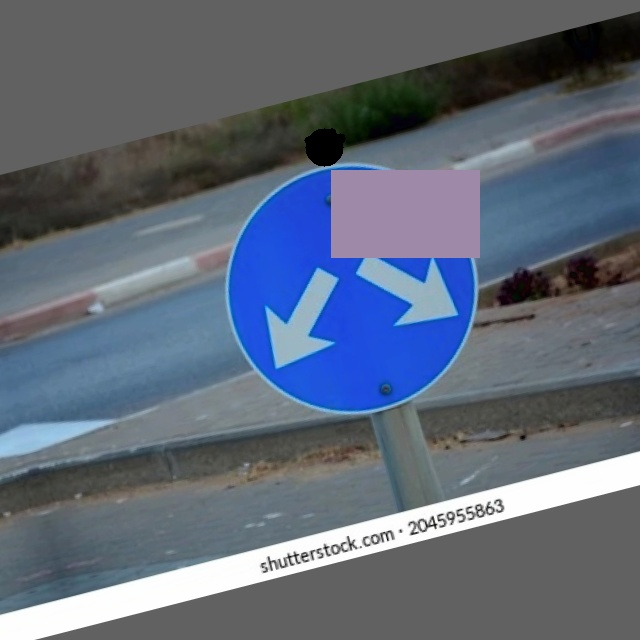Pass_Either_Side: (200, 135, 514, 449)
